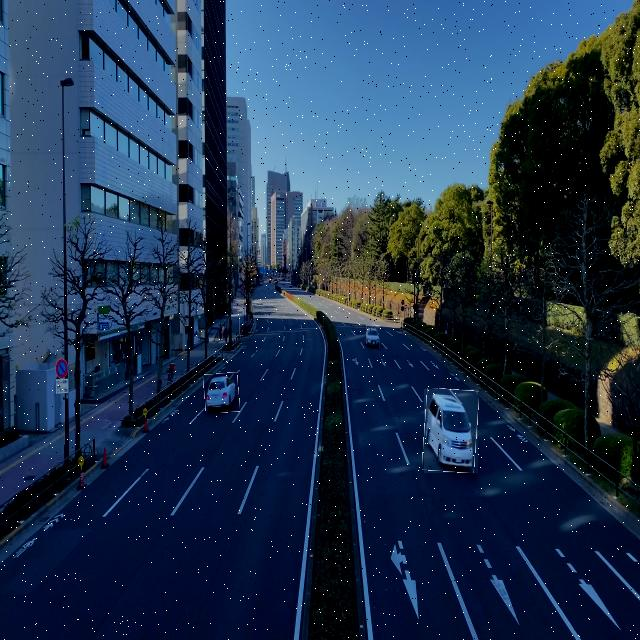Car: (424, 389, 478, 473), (204, 373, 240, 412), (366, 325, 380, 348)
